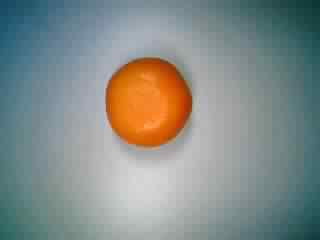orange: (101, 55, 193, 153)
